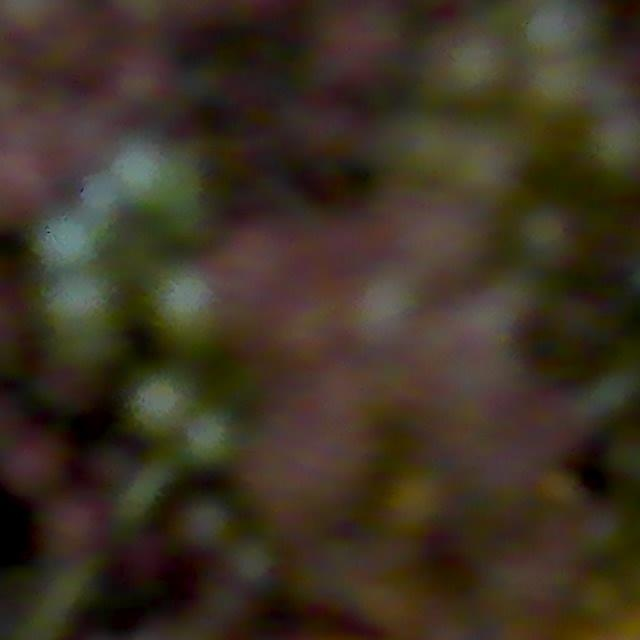SeaGrape: (236, 379, 375, 526), (220, 230, 304, 354), (302, 7, 406, 103), (110, 136, 203, 221), (0, 0, 92, 74), (42, 269, 116, 353), (150, 267, 223, 345), (118, 0, 201, 66), (113, 53, 184, 128), (511, 203, 579, 270), (127, 370, 193, 437), (1, 433, 68, 498), (40, 494, 100, 562), (572, 502, 631, 560), (38, 212, 97, 269), (573, 573, 626, 628), (173, 500, 228, 552), (185, 412, 235, 465)
